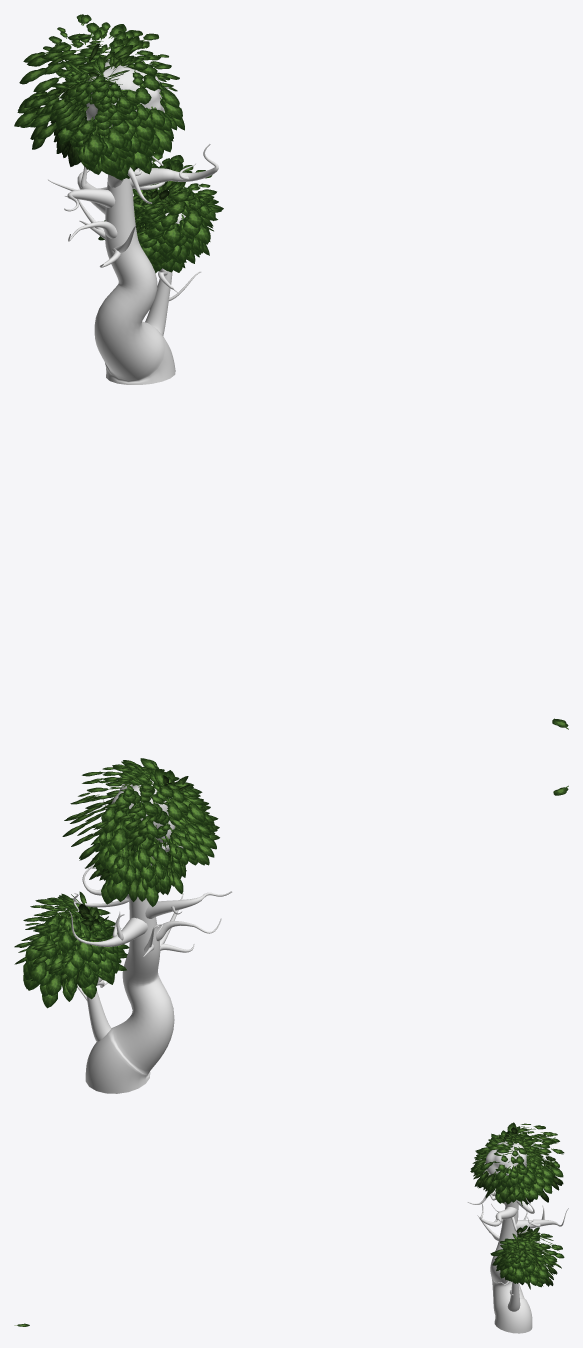
3 renders of one model, top to bottom at view 1: azimuth 30°, elevation 25°; view 2: azimuth 150°, elevation 25°; view 3: azimuth 270°, elevation 25°, orthographic. The views are drawn at different scales.
Parts seen in each view (by area): view 1: leaveless_tree_3, Cube.013; view 2: leaveless_tree_3, Cube.013; view 3: leaveless_tree_3, Cube.013.
Boxes of the visible parts, <box> form: leaveless_tree_3: <box>48,87,218,384</box>; Cube.013: <box>86,59,164,127</box>; leaveless_tree_3: <box>69,799,231,1093</box>; Cube.013: <box>111,779,175,842</box>; leaveless_tree_3: <box>467,1173,568,1333</box>; Cube.013: <box>485,1141,526,1175</box>.
Bounding box in the file's own units: 310 × 534 × 1361.
